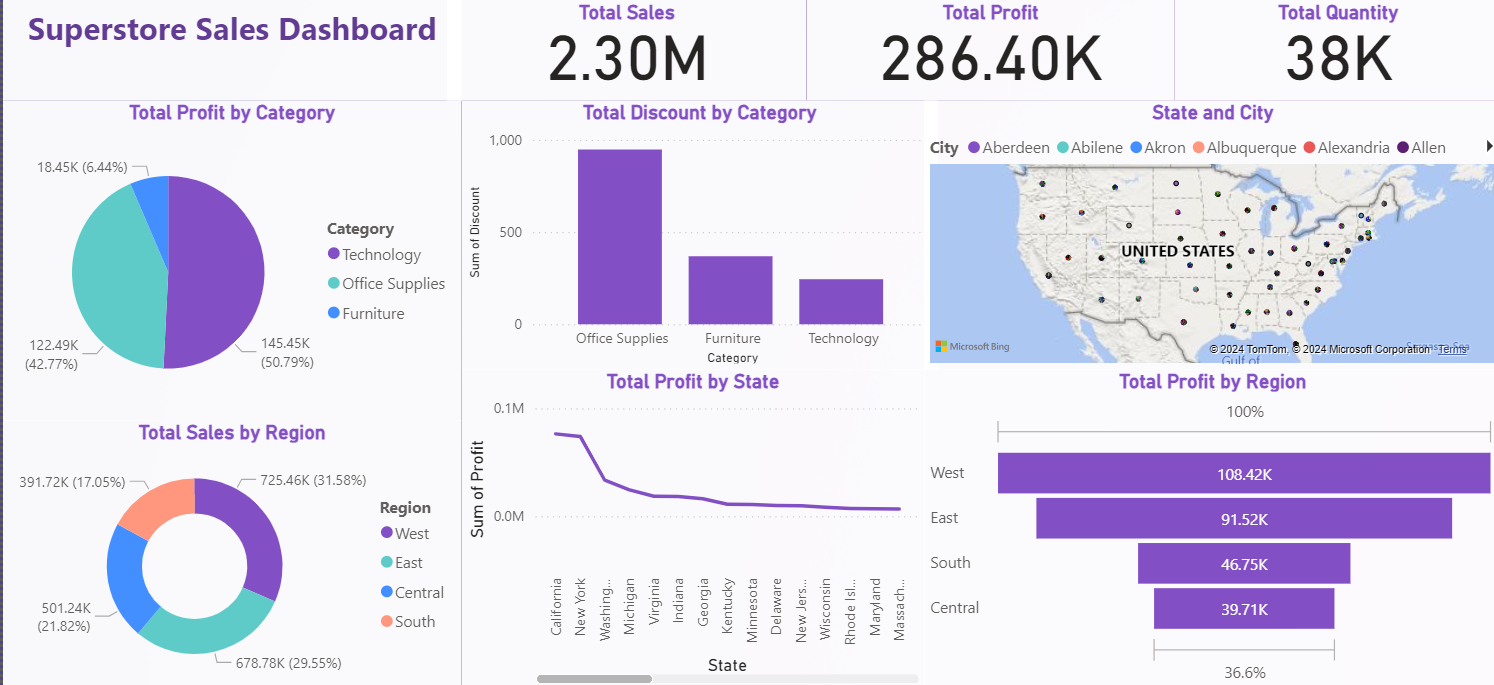

The dashboard page shown, as its layout file describes it:
{"tool":"powerbi","page":{"name":"Page 1","canvas":[1280,720],"ordinal":0},"visuals":[{"type":"card","title":"Total Sales","fields":{"Values":["Sum(SampleSuperstore.Sales)"]},"box":[378.9,0,307.7,85.8],"z":0},{"type":"card","title":"Total Profit","fields":{"Values":["Sum(SampleSuperstore.Profit)"]},"box":[686.6,0,314.1,85.8],"z":1000},{"type":"card","title":"Total Quantity","fields":{"Values":["Sum(SampleSuperstore.Quantity)"]},"box":[1000.7,0,280.1,85.8],"z":2000},{"type":"pieChart","title":"Total Profit by Category","fields":{"Category":["SampleSuperstore.Category"],"Y":["Sum(SampleSuperstore.Profit)"]},"box":[0,85.8,391.9,273.6],"z":3000},{"type":"donutChart","title":"Total Sales by Region","fields":{"Y":["Sum(SampleSuperstore.Sales)"],"Category":["SampleSuperstore.Region"]},"box":[0,359.5,391.9,229.9],"z":4000},{"type":"columnChart","title":"Total Discount by Category","fields":{"Y":["Sum(SampleSuperstore.Discount)"],"Category":["SampleSuperstore.Category"]},"box":[391.9,85.8,406.4,229.9],"z":5000},{"type":"lineChart","title":"Total Profit by State","fields":{"Category":["SampleSuperstore.State"],"Y":["Sum(SampleSuperstore.Profit)"]},"box":[391.9,315.7,395.1,273.6],"z":6000},{"type":"map","fields":{"Category":["SampleSuperstore.State"],"Series":["SampleSuperstore.City"]},"box":[786.9,85.8,493.9,229.9],"z":7000},{"type":"funnel","title":"Total Profit by Region","fields":{"Category":["SampleSuperstore.Region"],"Y":["Sum(SampleSuperstore.Profit)"]},"box":[786.9,315.7,493.9,273.6],"z":8000},{"type":"textbox","box":[0,0,391.9,85.8],"z":9000}]}

Visuals, with their boxes on the page's 1280x720 design canvas (x1, y1, x2, y2). These are canvas units, not pixel positions in the 1494x685 screenshot, which may show the page scaled, cropped or inside an application window:
"Total Sales" card: {"left": 379, "top": 0, "right": 687, "bottom": 86}
"Total Profit" card: {"left": 687, "top": 0, "right": 1001, "bottom": 86}
"Total Quantity" card: {"left": 1001, "top": 0, "right": 1281, "bottom": 86}
"Total Profit by Category" pieChart: {"left": 0, "top": 86, "right": 392, "bottom": 359}
"Total Sales by Region" donutChart: {"left": 0, "top": 360, "right": 392, "bottom": 589}
"Total Discount by Category" columnChart: {"left": 392, "top": 86, "right": 798, "bottom": 316}
"Total Profit by State" lineChart: {"left": 392, "top": 316, "right": 787, "bottom": 589}
map - SampleSuperstore.State x SampleSuperstore.City: {"left": 787, "top": 86, "right": 1281, "bottom": 316}
"Total Profit by Region" funnel: {"left": 787, "top": 316, "right": 1281, "bottom": 589}
textbox: {"left": 0, "top": 0, "right": 392, "bottom": 86}
